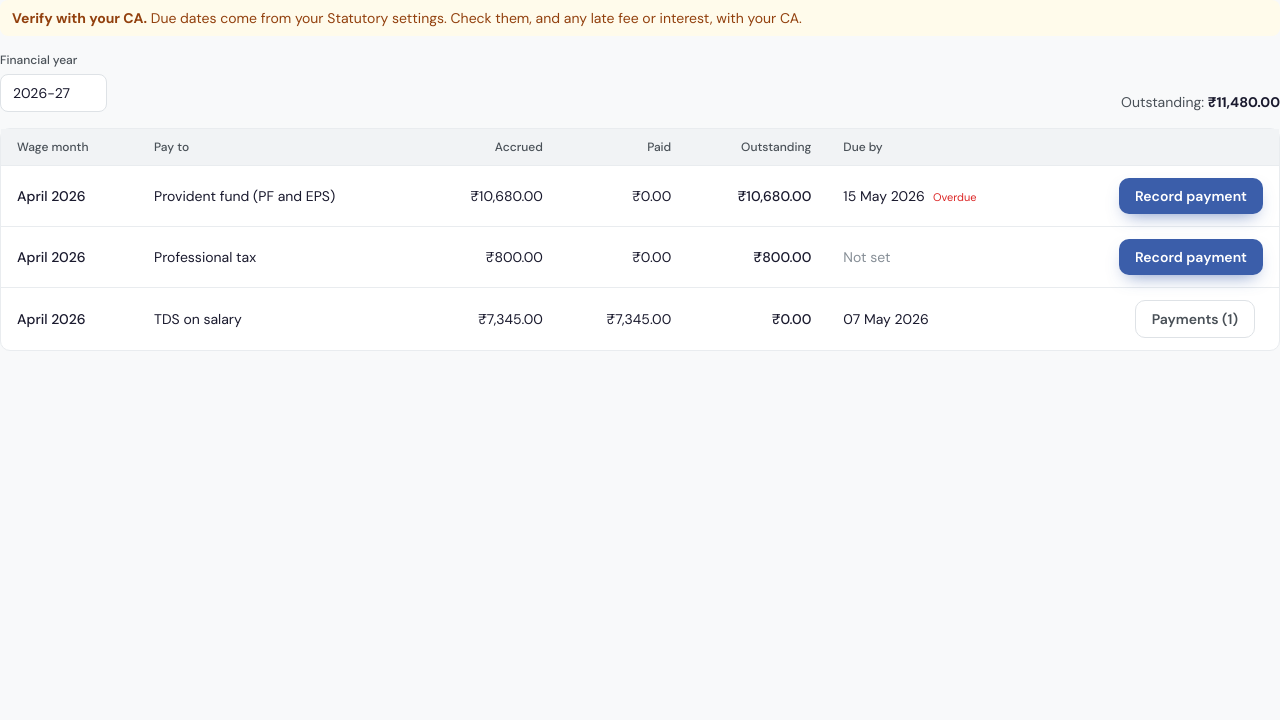
Test: DuesTab › needs a bank account
This screenshot has width=1280, height=720.
Click the button "Record payment" in the row of "Provident fund (PF and EPS)" at (1191, 196), box [1119,178,1263,214]
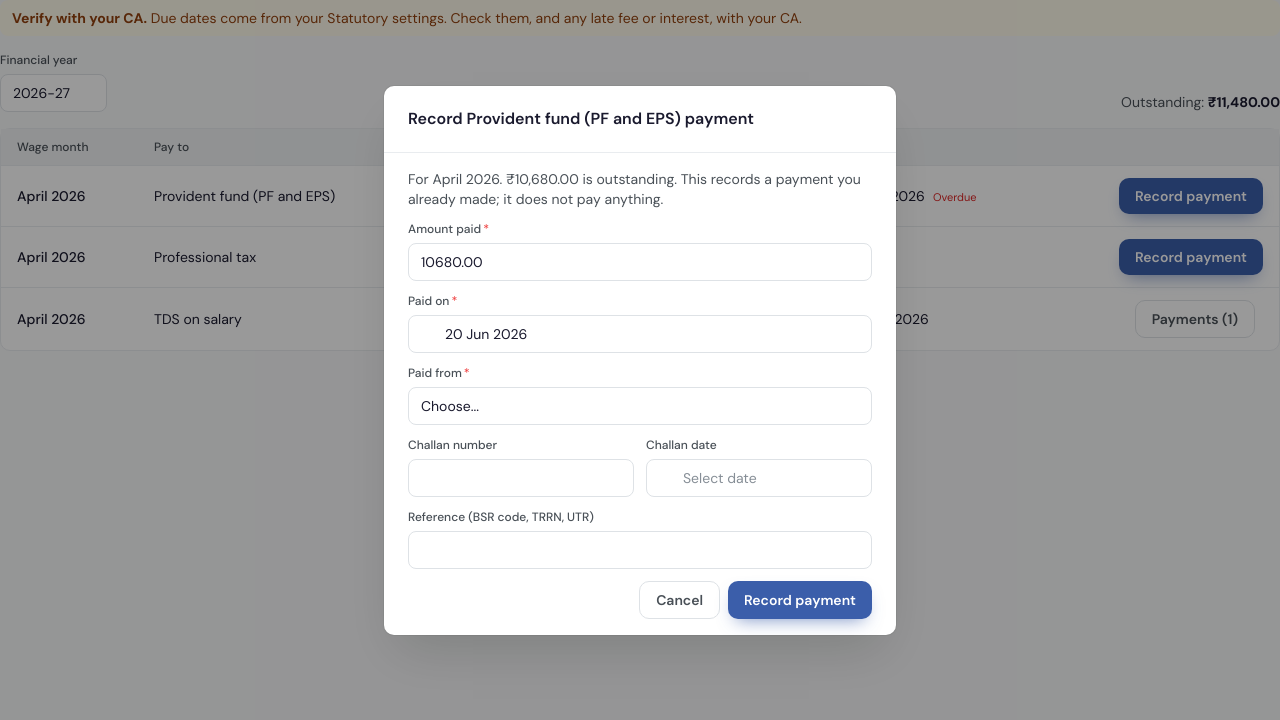
Click the button "Record payment" at (800, 600), box [728,580,872,618]
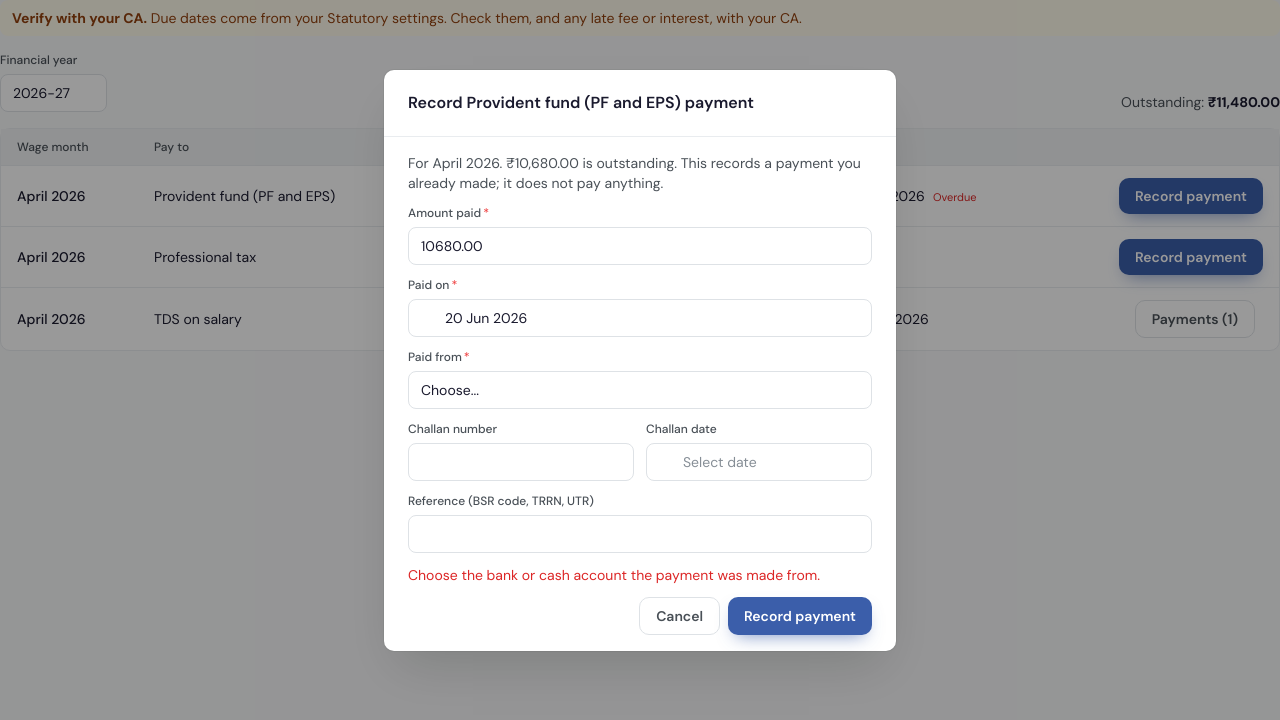
Result: the message shows "Choose the bank or cash account" at [408,566,820,584]
